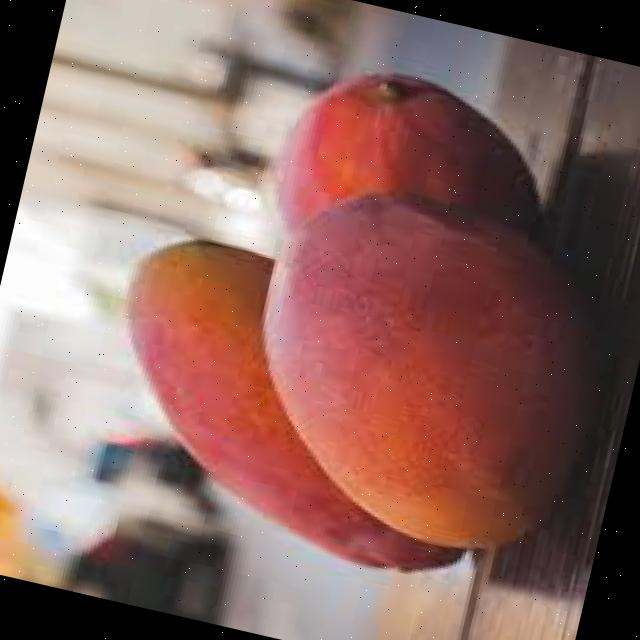mango: (265, 192, 599, 552)
